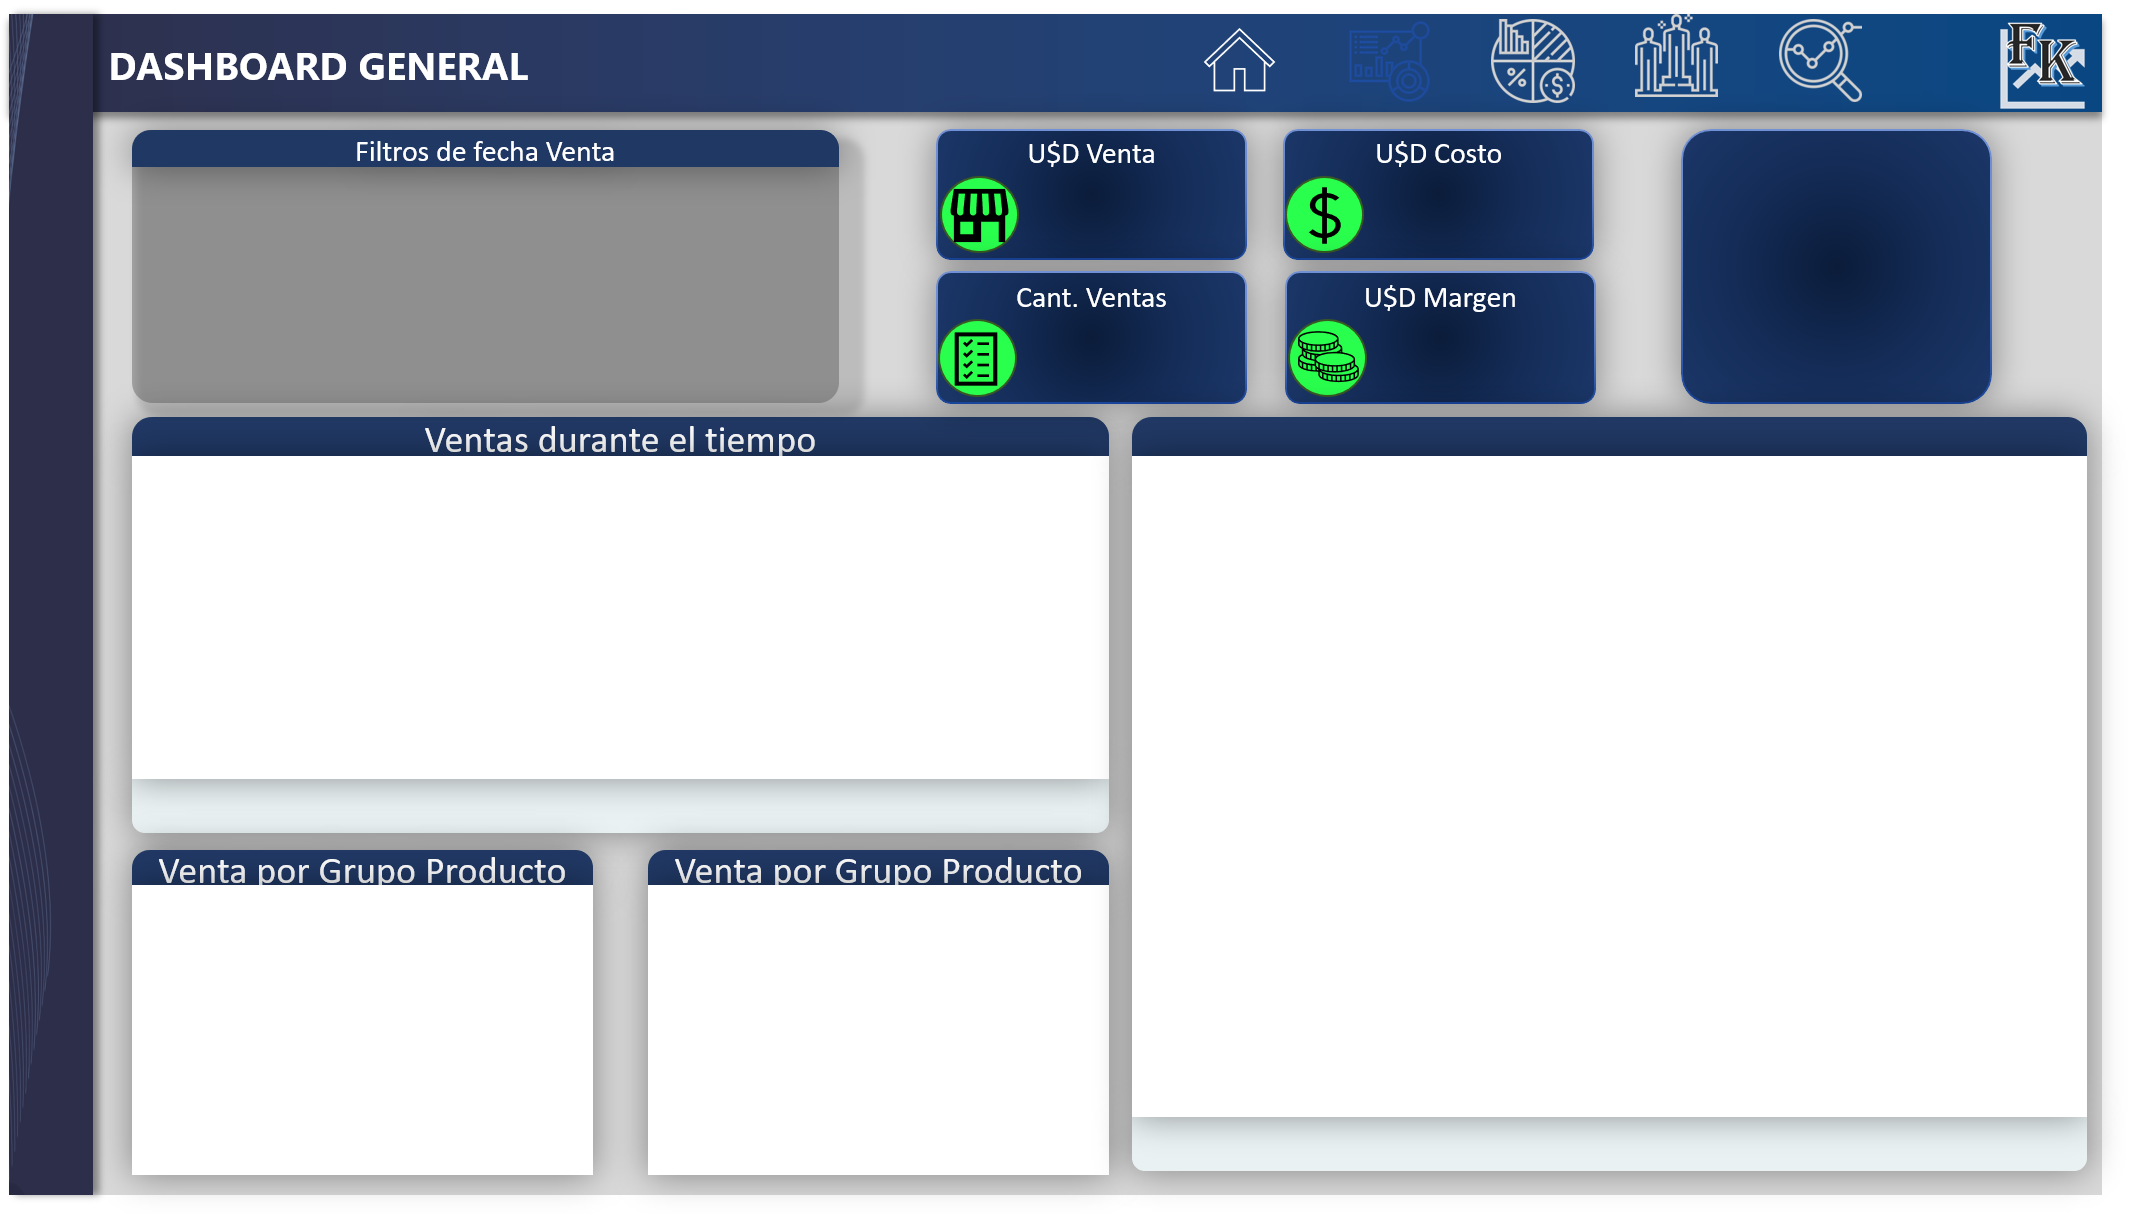

What the dashboard file says about the page in this screenshot:
{"tool":"powerbi","page":{"name":"Ventas","canvas":[1280,720],"ordinal":1},"visuals":[{"type":"slicer","fields":{"Values":["Ventas.fecha_venta"]},"box":[86.6,123.1,201.7,94.6],"z":0},{"type":"slicer","fields":{"Values":["Ventas.fecha_venta.Variación.Jerarquía de fechas.Año"]},"box":[297.5,101.6,201.7,70.1],"z":1000},{"type":"slicer","fields":{"Values":["Ventas.fecha_venta.Variación.Jerarquía de fechas.Mes"]},"box":[297.5,171.7,201.7,67.6],"z":2000},{"type":"card","fields":{"Values":["Sum(Ventas.valor_venta)"]},"box":[609.4,101.8,142.6,48],"z":3000},{"type":"card","fields":{"Values":["CountNonNull(Ventas.valor_venta)"]},"box":[609.4,189.1,142.6,48],"z":4000},{"type":"card","fields":{"Values":["Sum(Ventas.valor_costo)"]},"box":[824.6,101.8,142.6,48],"z":5000},{"type":"card","fields":{"Values":["Medidas.Margen Bruto"]},"box":[824.6,189.1,142.6,48],"z":6000},{"type":"payPalKPIDonutChart55A431AB15A540ED924ACD72ED8D259F","title":"% Margen B.","fields":{"myvalue":["Medidas.%_MB"]},"box":[1028.1,84.3,171,155],"z":7000},{"type":"stackedAreaChart","title":"venta / costo / mb","fields":{"Category":["Ventas.fecha_venta.Variación.Jerarquía de fechas.Año","Ventas.fecha_venta.Variación.Jerarquía de fechas.Trimestre","Ventas.fecha_venta.Variación.Jerarquía de fechas.Mes","Ventas.fecha_venta.Variación.Jerarquía de fechas.Día"],"Y":["Medidas.Margen Bruto","Sum(Ventas.valor_costo)","Sum(Ventas.valor_venta)"]},"box":[75.2,270.1,588.1,178.9],"z":9000},{"type":"actionButton","title":"Boton1","box":[107.1,466.2,181.2,26.2],"z":11000},{"type":"barChart","fields":{"Category":["Grupos.desc_grupo"],"Y":["Sum(Ventas.valor_venta)"]},"box":[76.4,523.2,278.1,169.8],"z":12000},{"type":"pieChart","fields":{"Y":["Sum(Ventas.valor_venta)"],"Series":["Condiciones.desc_condicion"]},"box":[389.8,523.2,273.6,169.8],"z":14000},{"type":"actionButton","title":"Boton Influenciadores","box":[1017.8,658.8,181.2,34.2],"z":15000},{"type":"map","title":"Mapa de Ventas por localidad","fields":{"Series":["Localidades.Ciudad"],"Size":["Sum(Ventas.valor_venta)"],"Category":["Localidades.Localidad"]},"box":[680,250.7,573.7,408.3],"z":17000},{"type":"actionButton","box":[896.4,8.6,52.9,57.8],"z":18000},{"type":"actionButton","box":[982.4,8.6,52.9,57.8],"z":19000},{"type":"actionButton","title":"Botón","box":[1068.5,8.6,52.9,57.8],"z":20000},{"type":"actionButton","box":[719.3,8.6,52.9,57.8],"z":21000}]}

Visuals, with their boxes in screenshot pixels (x1, y1, x2, y2), scaled from the page's 1280x720 canvas onto the 2129x1217 screenshot:
slicer - Ventas.fecha_venta: {"x1": 144, "y1": 208, "x2": 480, "y2": 368}
slicer - Ventas.fecha_venta.Variación.Jerarquía de fechas.Año: {"x1": 495, "y1": 172, "x2": 830, "y2": 290}
slicer - Ventas.fecha_venta.Variación.Jerarquía de fechas.Mes: {"x1": 495, "y1": 290, "x2": 830, "y2": 404}
card - Sum(Ventas.valor_venta): {"x1": 1014, "y1": 172, "x2": 1251, "y2": 253}
card - CountNonNull(Ventas.valor_venta): {"x1": 1014, "y1": 320, "x2": 1251, "y2": 401}
card - Sum(Ventas.valor_costo): {"x1": 1372, "y1": 172, "x2": 1609, "y2": 253}
card - Medidas.Margen Bruto: {"x1": 1372, "y1": 320, "x2": 1609, "y2": 401}
"% Margen B." payPalKPIDonutChart55A431AB15A540ED924ACD72ED8D259F: {"x1": 1710, "y1": 142, "x2": 1994, "y2": 404}
"venta / costo / mb" stackedAreaChart: {"x1": 125, "y1": 457, "x2": 1103, "y2": 759}
"Boton1" actionButton: {"x1": 178, "y1": 788, "x2": 480, "y2": 832}
barChart - Grupos.desc_grupo x Sum(Ventas.valor_venta): {"x1": 127, "y1": 884, "x2": 590, "y2": 1171}
pieChart - Sum(Ventas.valor_venta) x Condiciones.desc_condicion: {"x1": 648, "y1": 884, "x2": 1103, "y2": 1171}
"Boton Influenciadores" actionButton: {"x1": 1693, "y1": 1114, "x2": 1994, "y2": 1171}
"Mapa de Ventas por localidad" map: {"x1": 1131, "y1": 424, "x2": 2085, "y2": 1114}
actionButton: {"x1": 1491, "y1": 15, "x2": 1579, "y2": 112}
actionButton: {"x1": 1634, "y1": 15, "x2": 1722, "y2": 112}
"Botón" actionButton: {"x1": 1777, "y1": 15, "x2": 1865, "y2": 112}
actionButton: {"x1": 1196, "y1": 15, "x2": 1284, "y2": 112}
